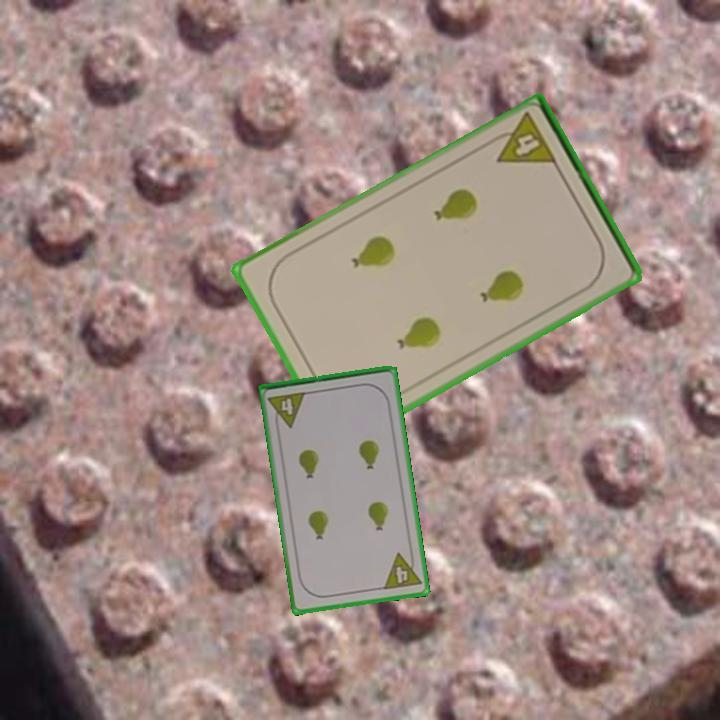4p: (485, 109, 560, 168), (380, 548, 424, 592), (265, 388, 309, 432)
